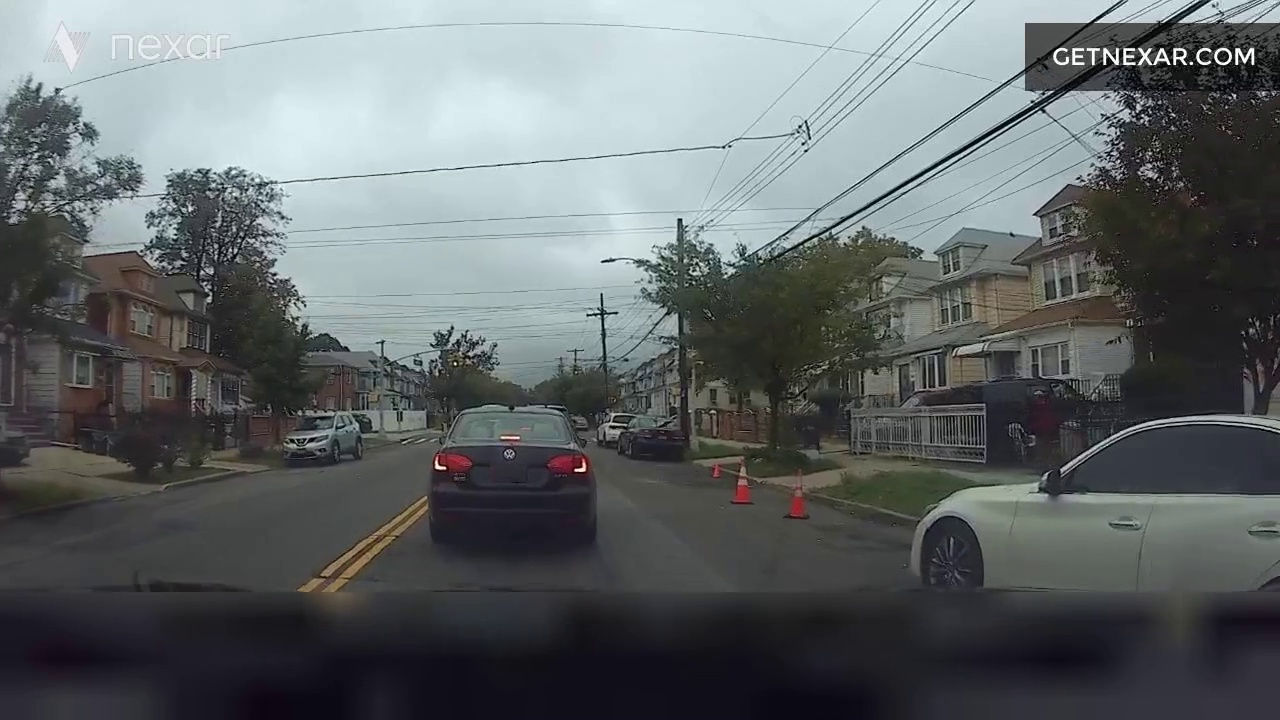car: (865, 404, 1280, 620), (415, 405, 598, 539), (255, 396, 371, 480), (603, 403, 694, 470)
traffic light: (429, 350, 485, 391)
